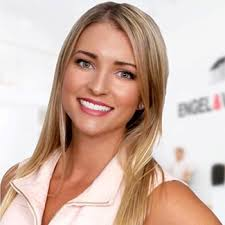white_female: (60, 15, 158, 142)
